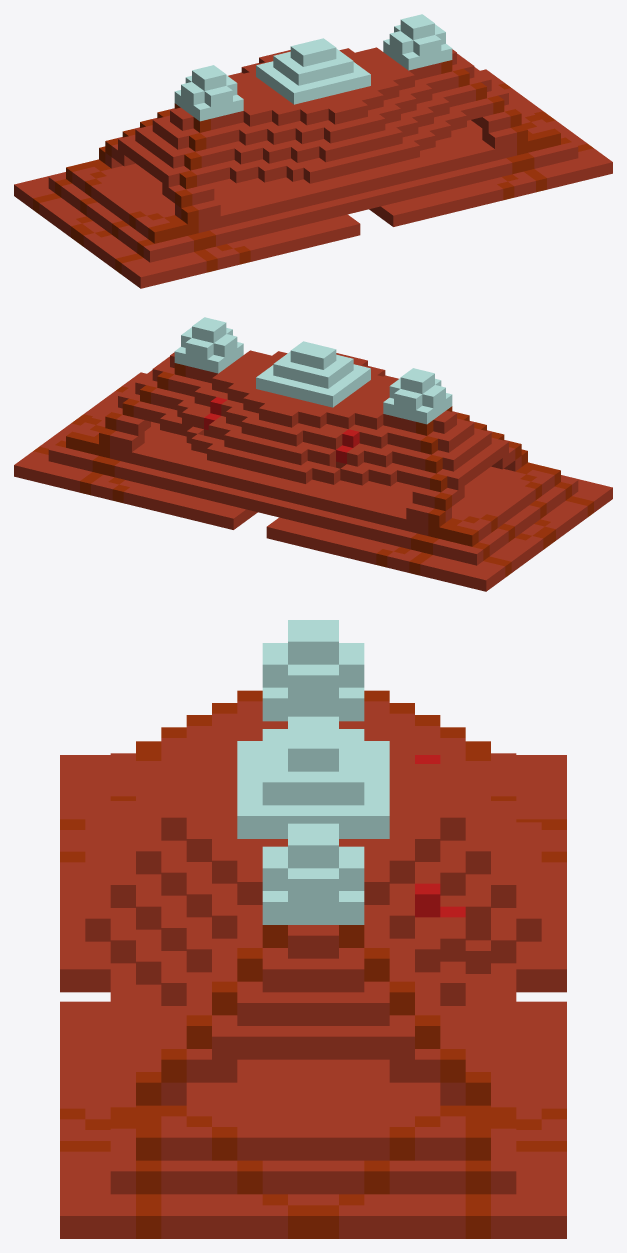
The model's file is elec3_hid.fbx.
The picture shows the model from 3 angles, top to bottom: view 1: azimuth 30°, elevation 25°; view 2: azimuth 150°, elevation 25°; view 3: azimuth 270°, elevation 25°; orthographic projection. The views are drawn at different scales.
Parts seen in each view (by area): view 1: 暗红.001; view 2: 暗红.001; view 3: 暗红.001.
Part boxes in pixels (<box>): 暗红.001: <box>14,14,612,288</box>; 暗红.001: <box>14,317,612,591</box>; 暗红.001: <box>60,620,566,1238</box>.
Size of the model in its own units: 430 by 120 by 200.
